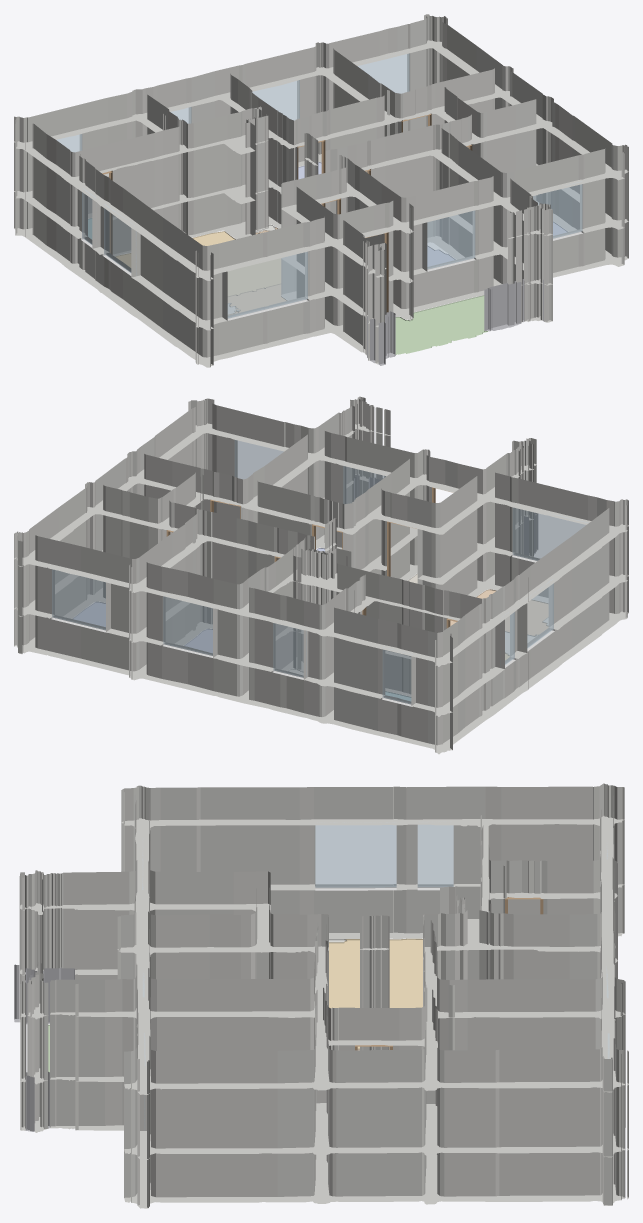
The picture shows the model from 3 angles, top to bottom: view 1: azimuth 30°, elevation 25°; view 2: azimuth 150°, elevation 25°; view 3: azimuth 270°, elevation 25°; orthographic projection. The views are drawn at different scales.
Parts seen in each view (by area): view 1: walls, window_17, floor_0_Outdoor, railings, window_16, floor_1_Kitchen, window_15, window_14, window_10, window_9, floor_2_Living_Room, window_13; view 2: walls, window_10, window_17, window_9, window_12, window_11, window_14, window_15, window_16, floor_2_Living_Room, railings, floor_6_Bed_Room; view 3: walls, window_14, floor_1_Kitchen, window_13, railings.
Part boxes in pixels (<box>): walls: <box>14,14,628,367</box>; window_17: <box>227,251,307,318</box>; floor_0_Outdoor: <box>395,295,488,354</box>; railings: <box>367,279,543,365</box>; window_16: <box>427,210,475,269</box>; floor_1_Kitchen: <box>115,231,280,295</box>; window_15: <box>533,181,582,238</box>; window_14: <box>104,204,136,275</box>; window_10: <box>357,53,409,93</box>; window_9: <box>252,80,299,120</box>; floor_2_Living_Room: <box>228,284,287,315</box>; window_13: <box>82,188,95,244</box>; walls: <box>14,396,628,754</box>; window_10: <box>52,569,107,629</box>; window_17: <box>512,507,587,560</box>; window_9: <box>163,594,212,655</box>; window_12: <box>273,623,306,677</box>; window_11: <box>382,647,412,703</box>; window_14: <box>526,579,553,648</box>; window_15: <box>234,439,283,479</box>; window_16: <box>343,466,385,504</box>; floor_2_Living_Room: <box>450,589,548,635</box>; railings: <box>354,474,537,555</box>; floor_6_Bed_Room: <box>73,602,105,626</box>; walls: <box>19,783,628,1208</box>; window_14: <box>315,822,396,887</box>; floor_1_Kitchen: <box>329,938,422,1049</box>; window_13: <box>417,824,453,887</box>; railings: <box>14,964,74,1131</box>.
Size of the model in its own units: 11.08 by 2.72 by 10.3.
